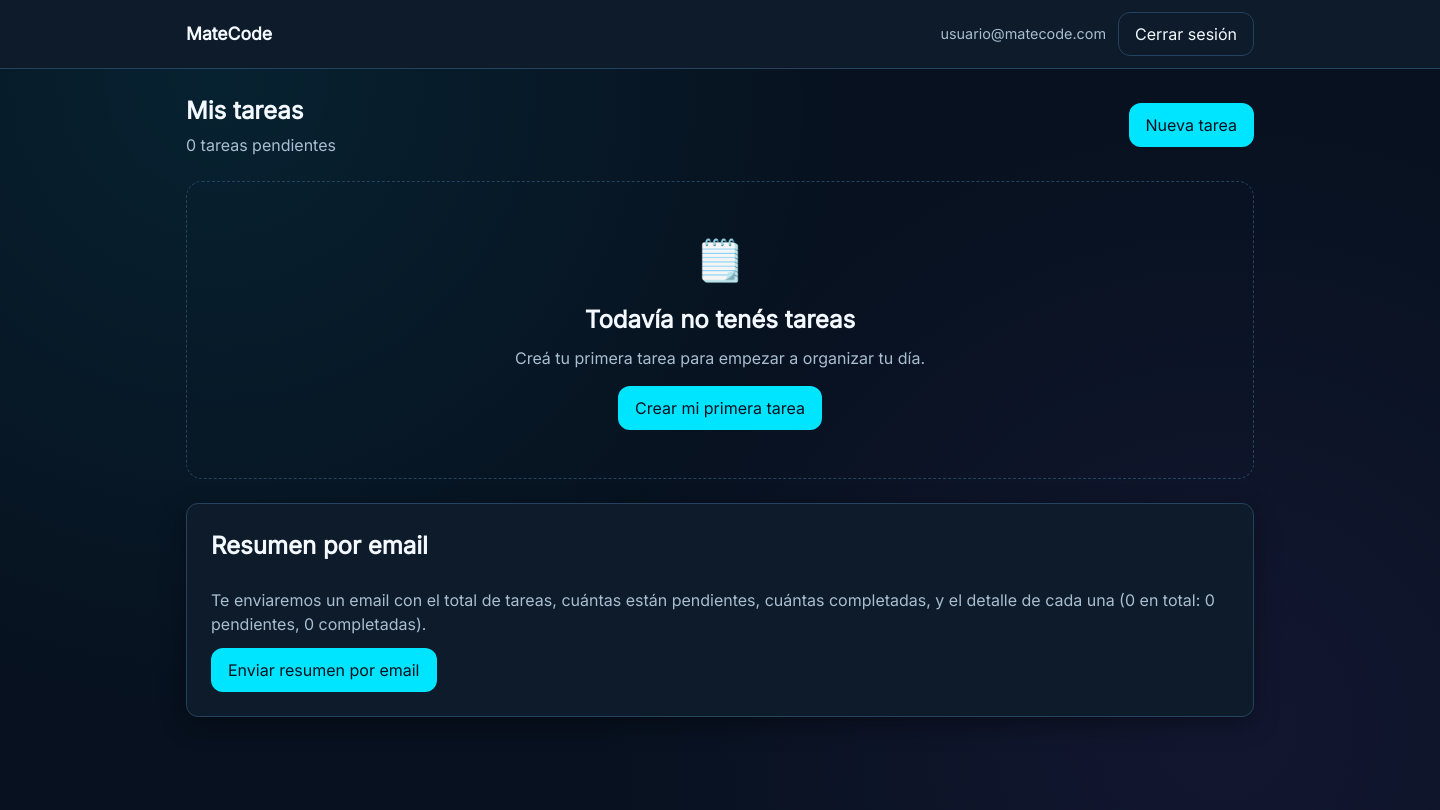
Test: TasksPage › agrega la tarea creada a la lista sin volver a consultar toda la colección
Expected: the heading "Todavía no tenés tareas" is shown, [585, 305, 855, 334]
Click the button "Nueva tarea": (1191, 125) [1128, 103, 1254, 147]
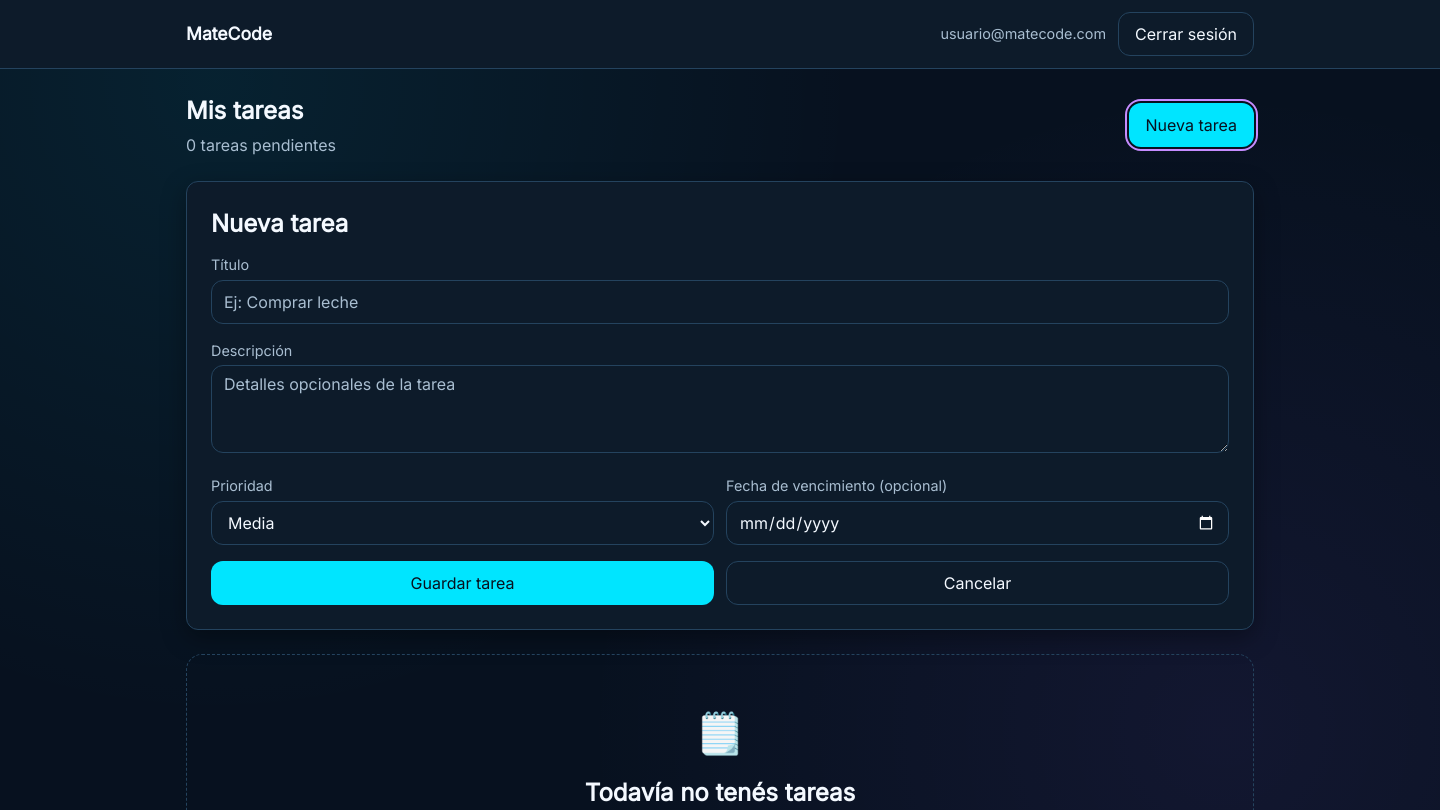
In the field labelled "Título": (720, 302) [211, 280, 1229, 324], type "Comprar leche"
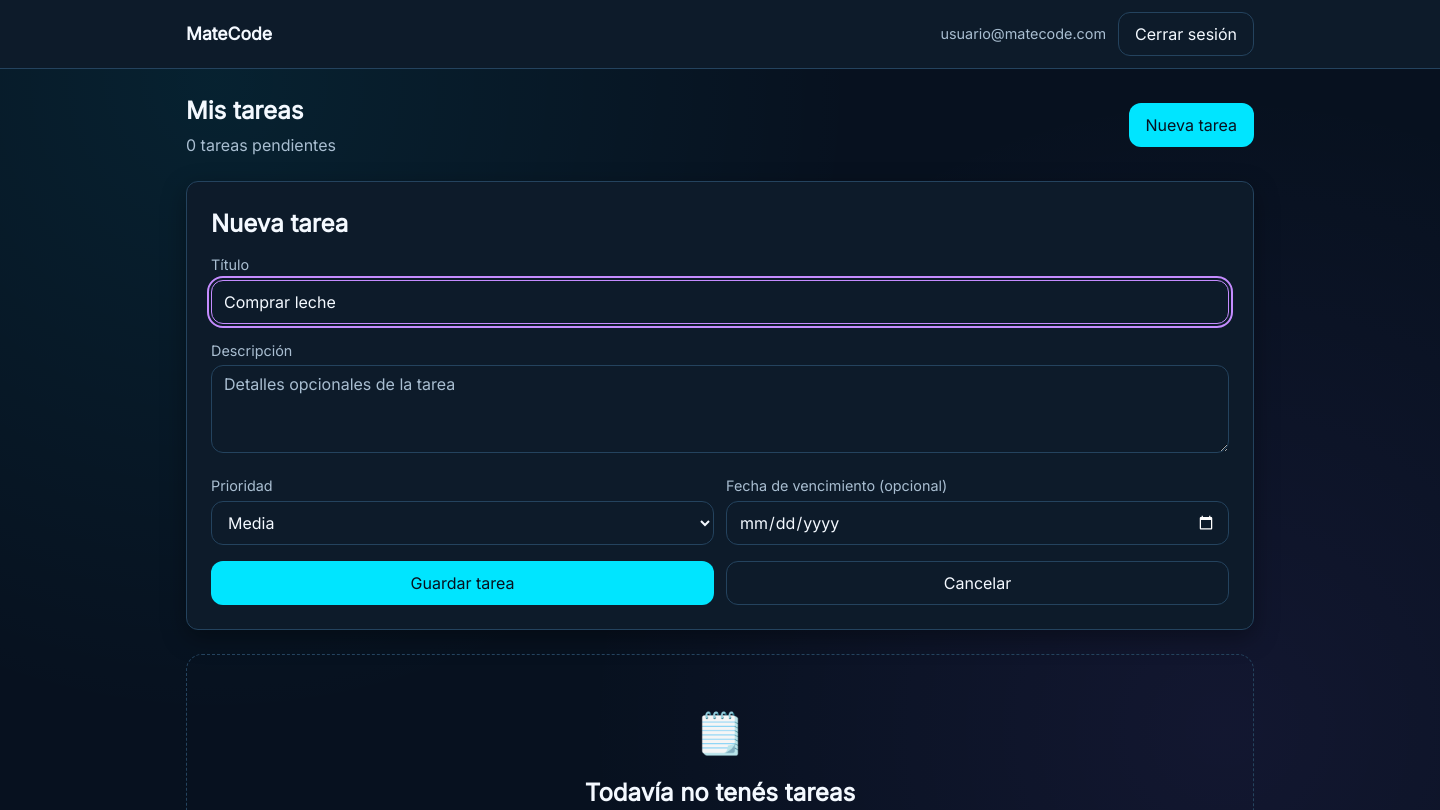
Click the button "Guardar tarea": (462, 583) [211, 561, 714, 605]
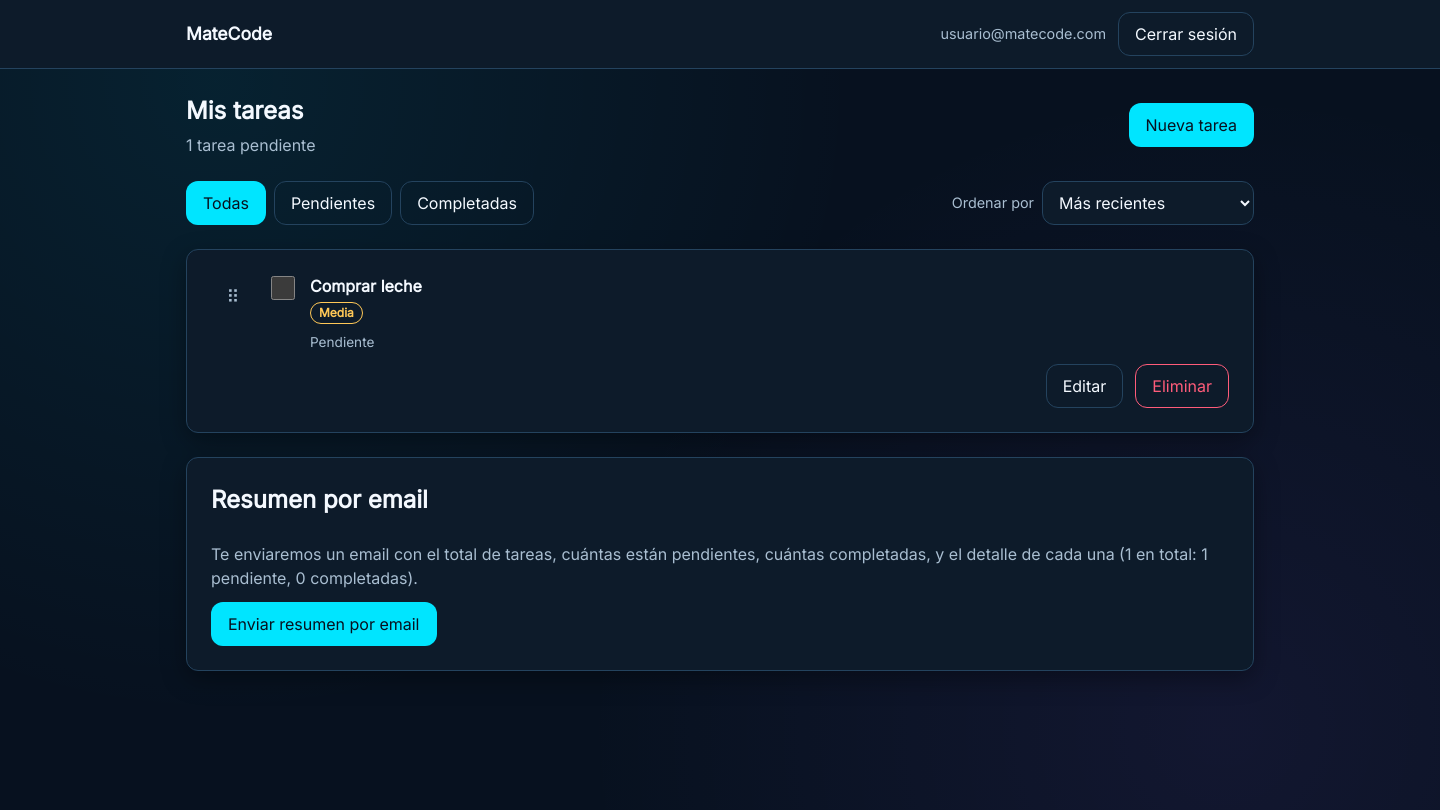
Result: the label labelled "Título" is gone
Result: the text "Comprar leche" is shown at [310, 276, 422, 296]
Result: the text "1 tarea pendiente" is shown at [186, 133, 316, 157]
